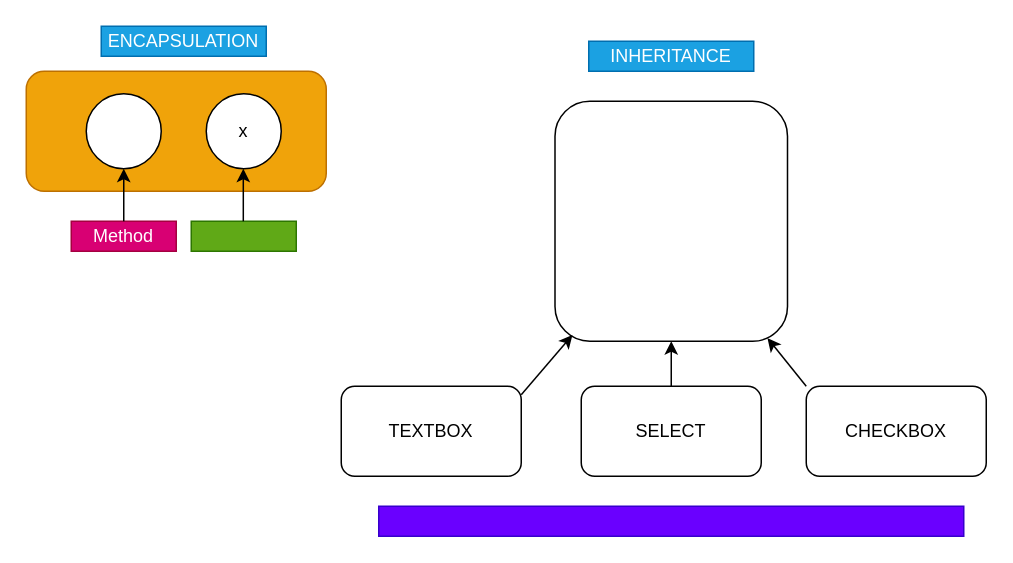
Image size: 1013x563. Some labels were removed from this diagram. Here are the shapes that lost their labels. From the top down, the box of each, then its label:
(85, 92, 161, 169): f()
(190, 220, 296, 251): Property
(554, 100, 788, 341): hidden innerHTML click() focus()
(377, 505, 964, 536): ALL THREE WILL INHERIT COMMON PROPERTY AND METHODS
